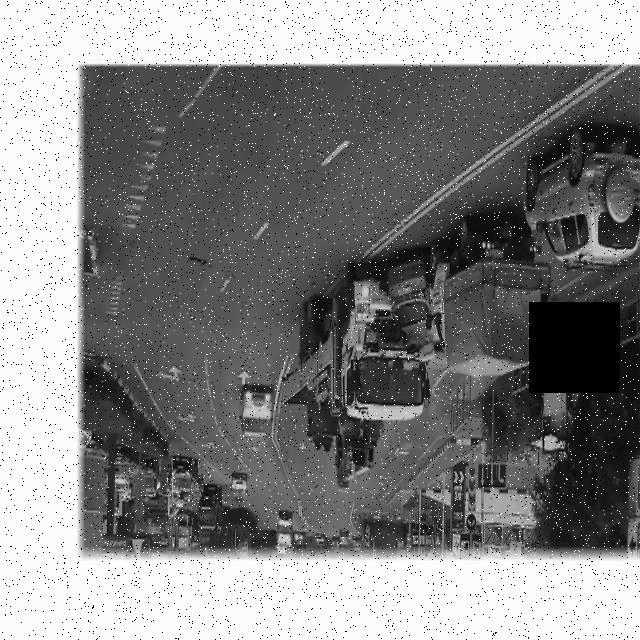severe: (279, 206, 555, 486)
